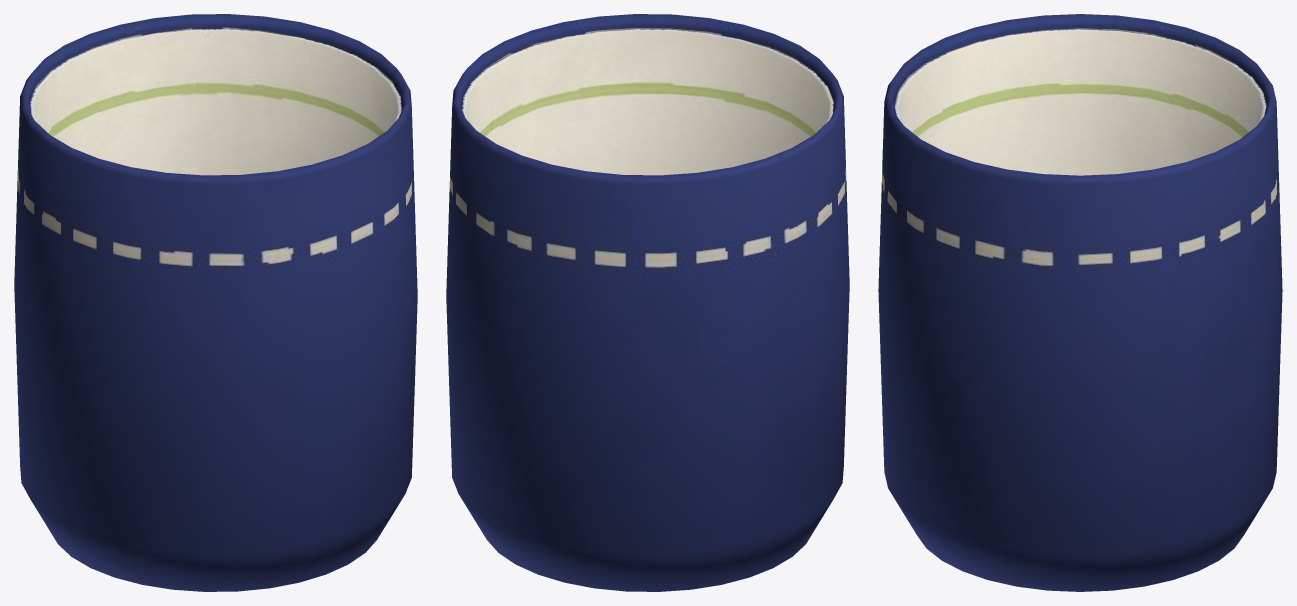
Rendered from yunomi_navy_b1.glb.
The picture shows the model from 3 angles, left to right: view 1: azimuth 30°, elevation 25°; view 2: azimuth 150°, elevation 25°; view 3: azimuth 270°, elevation 25°; orthographic projection.
Parts seen in each view (by area): view 1: prop_yunomi_navy_b1_felt; view 2: prop_yunomi_navy_b1_felt; view 3: prop_yunomi_navy_b1_felt.
Boxes of the visible parts, box(x1,y1,x2,y2) form: prop_yunomi_navy_b1_felt: box(14, 14, 417, 591); prop_yunomi_navy_b1_felt: box(446, 14, 849, 591); prop_yunomi_navy_b1_felt: box(878, 14, 1282, 591).
Size of the model in its own units: 0.1112 by 0.1296 by 0.1112.
1 material, 1 textured.
